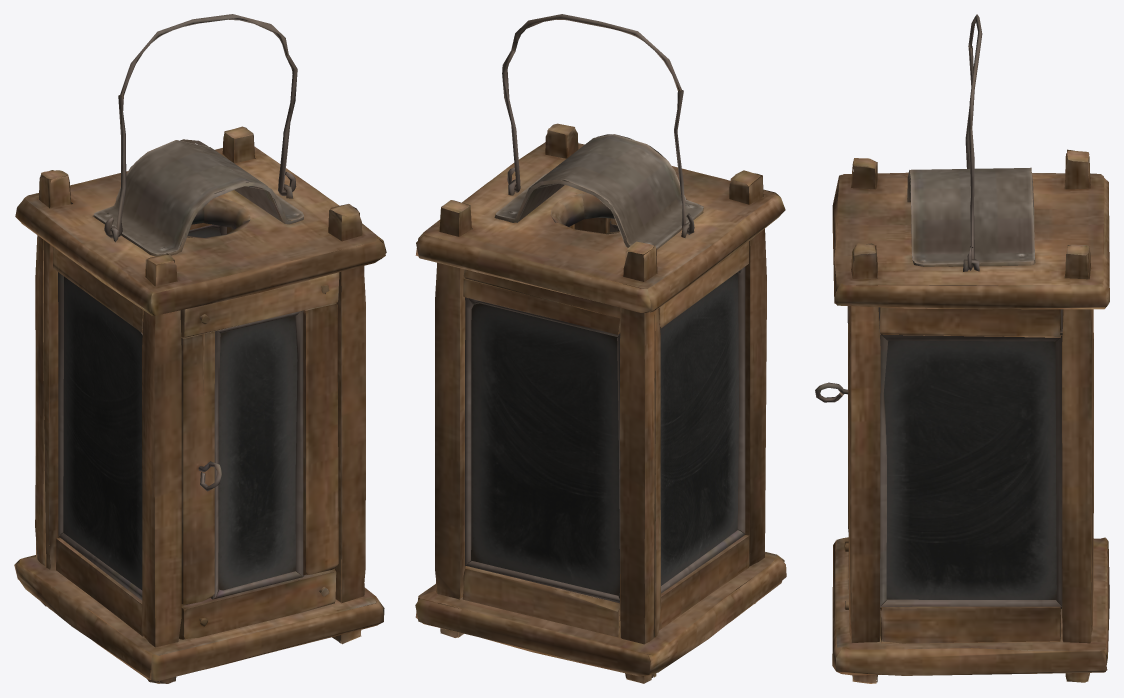
File: wooden_lantern_01.glb
The picture shows the model from 3 angles, left to right: view 1: azimuth 30°, elevation 25°; view 2: azimuth 150°, elevation 25°; view 3: azimuth 270°, elevation 25°; orthographic projection.
Parts seen in each view (by area): view 1: wooden_lantern_01, wooden_lantern_01_door, wooden_lantern_01_handle; view 2: wooden_lantern_01, wooden_lantern_01_handle, wooden_lantern_01_door; view 3: wooden_lantern_01, wooden_lantern_01_handle, wooden_lantern_01_door.
Part boxes in pixels (x1,y1,x2,y2): wooden_lantern_01: (14, 126, 386, 683); wooden_lantern_01_door: (179, 272, 339, 639); wooden_lantern_01_handle: (104, 14, 297, 238); wooden_lantern_01: (415, 123, 786, 683); wooden_lantern_01_handle: (502, 14, 694, 234); wooden_lantern_01_door: (574, 217, 619, 233); wooden_lantern_01: (832, 149, 1109, 683); wooden_lantern_01_handle: (965, 14, 982, 270); wooden_lantern_01_door: (815, 306, 849, 609).
Bounding box in the file's own units: 0.2212 × 0.5289 × 0.2342.
2 materials, 2 textured.
